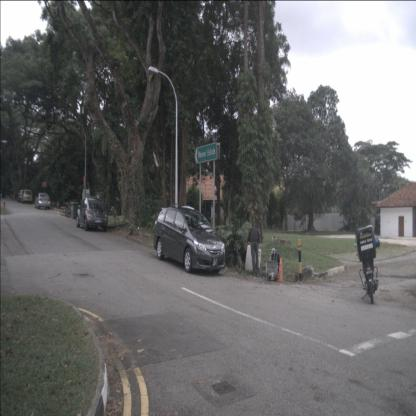cone: (276, 254, 284, 282)
